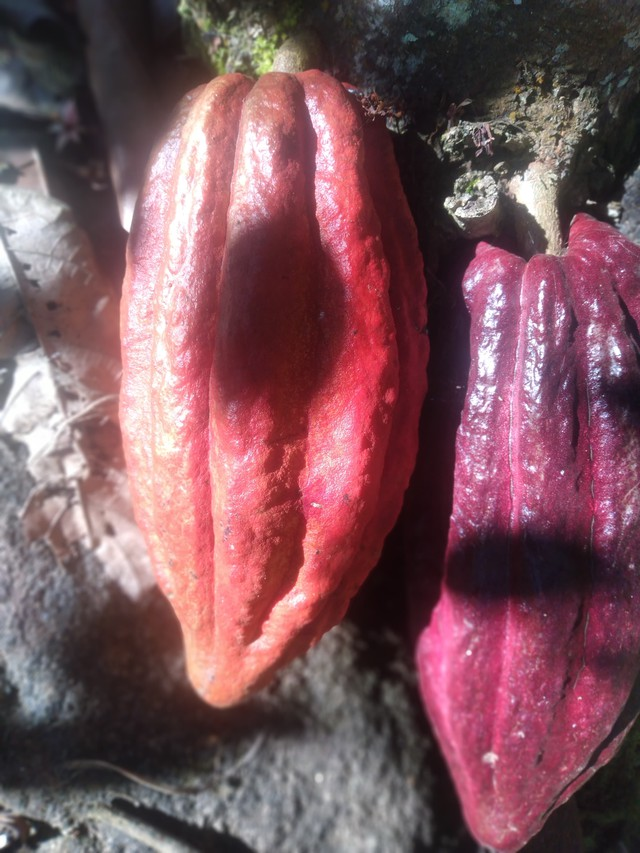phytophthora palmivora: (93, 52, 445, 708)
